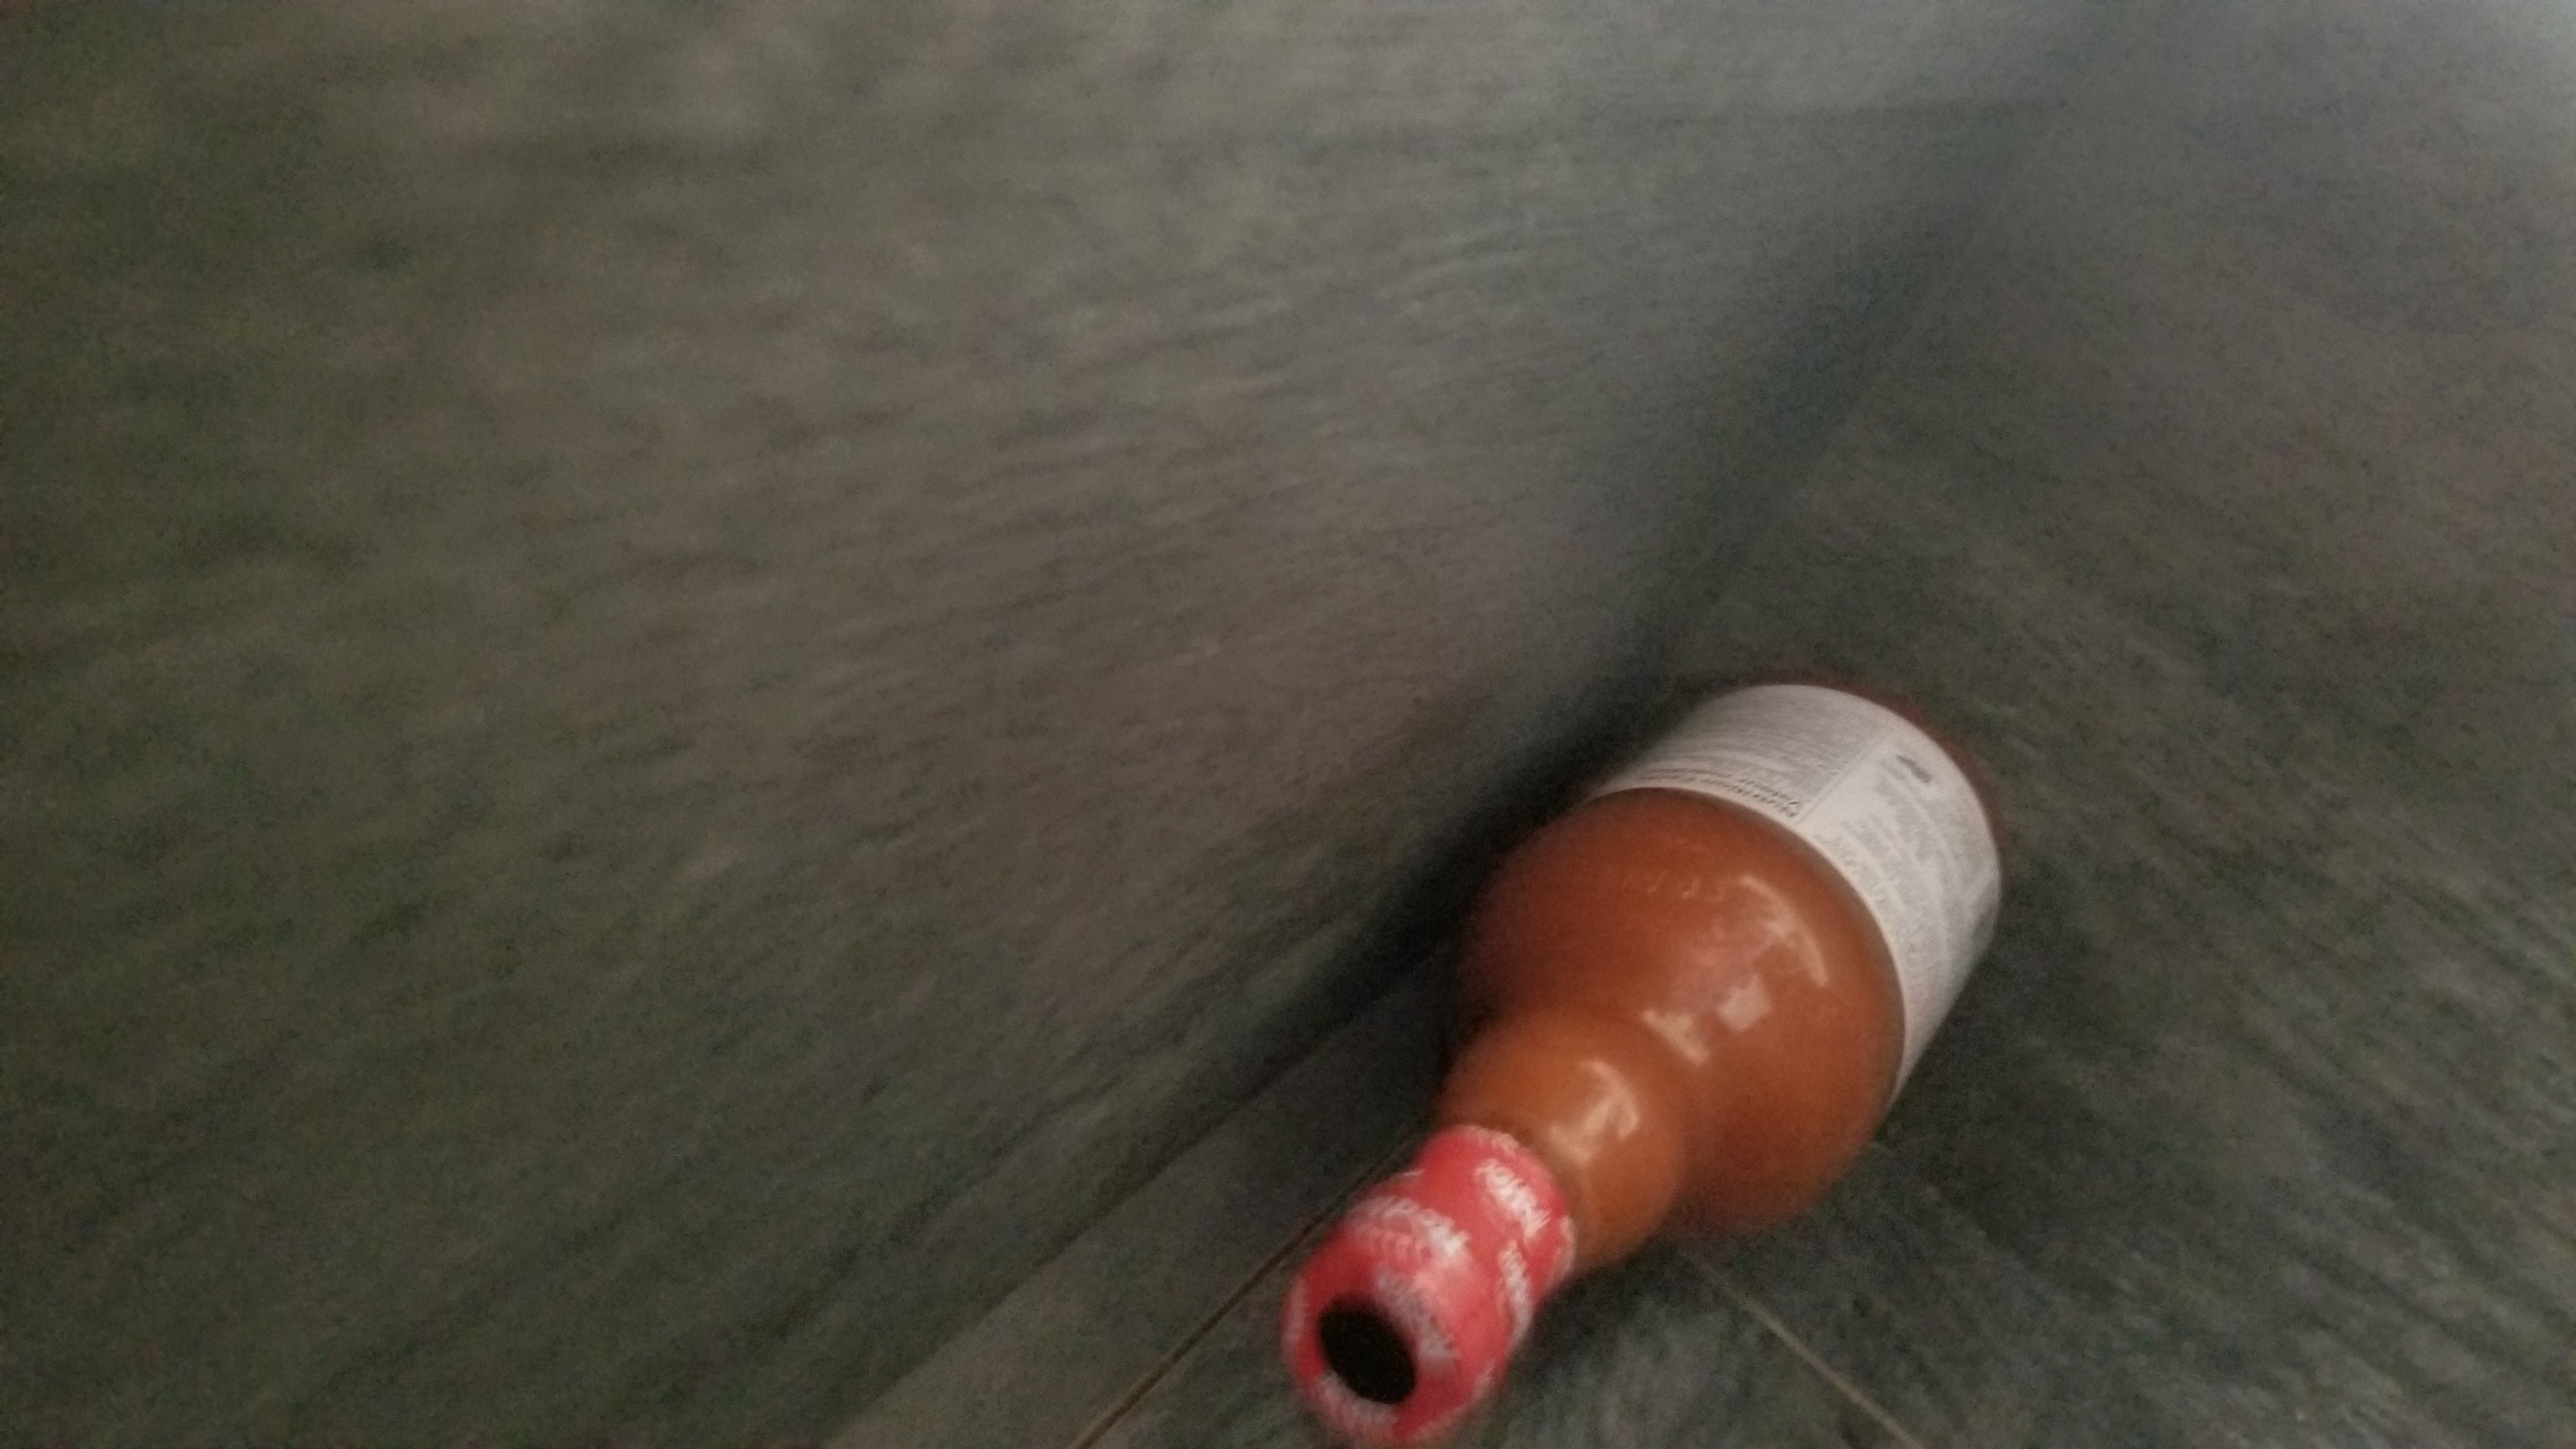hot sauce: (1238, 640, 2036, 1437)
